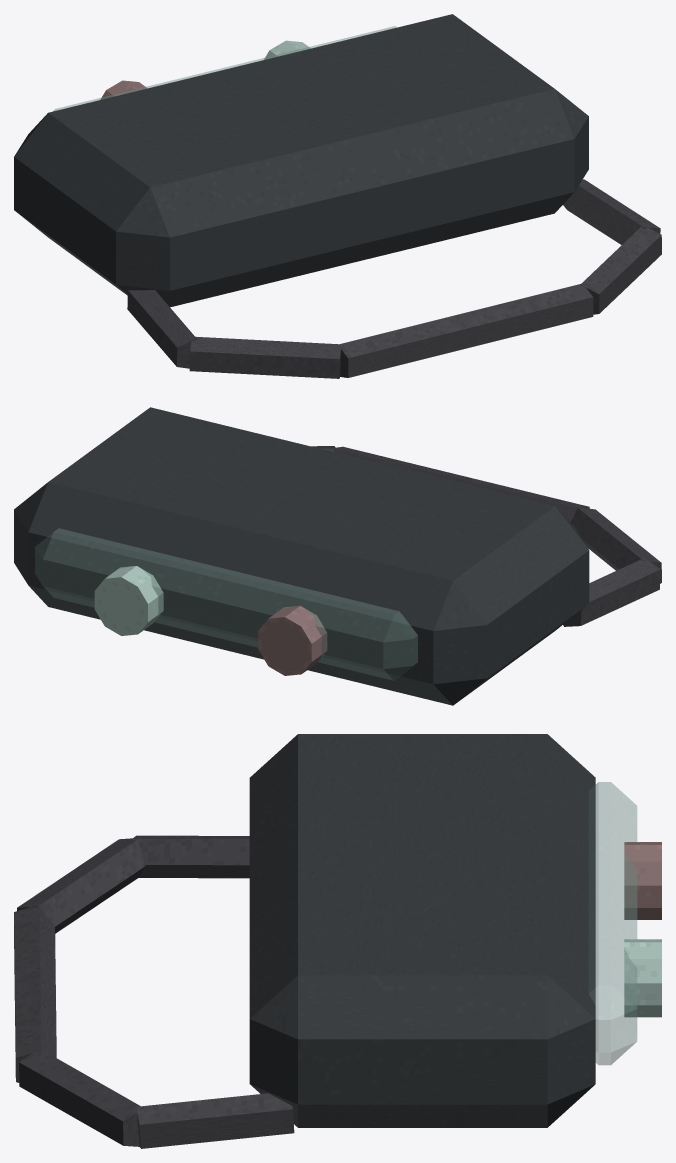
Rendered from goggles_nv.glb.
3 views of the same model, one above another, from view 1: azimuth 30°, elevation 25°; view 2: azimuth 150°, elevation 25°; view 3: azimuth 270°, elevation 25° (orthographic). The views are drawn at different scales.
Visible parts, largest first — view 1: block_electronic headset shroud, block_headband 2, block_headband 1, block_headband 3, block_headband 0, block_headband 4, block_wide dark visor; view 2: block_electronic headset shroud, block_wide dark visor, block_infrared emitter and receiver (×2), block_headband 0, block_headband 1, block_headband 2; view 3: block_electronic headset shroud, block_wide dark visor, block_headband 4, block_headband 2, block_infrared emitter and receiver (×2), block_headband 3, block_headband 1, block_headband 0.
Boxes of the visible parts, x1=… form: block_electronic headset shroud: x1=14, y1=14, x2=588, y2=307; block_headband 2: x1=338, y1=283, x2=593, y2=377; block_headband 1: x1=189, y1=336, x2=341, y2=378; block_headband 3: x1=580, y1=225, x2=661, y2=314; block_headband 0: x1=127, y1=290, x2=197, y2=368; block_headband 4: x1=563, y1=179, x2=660, y2=244; block_wide dark visor: x1=53, y1=26, x2=396, y2=111; block_electronic headset shroud: x1=14, y1=407, x2=589, y2=705; block_wide dark visor: x1=35, y1=528, x2=417, y2=680; block_infrared emitter and receiver (×2): x1=94, y1=566, x2=327, y2=675; block_headband 0: x1=563, y1=558, x2=660, y2=626; block_headband 1: x1=570, y1=507, x2=661, y2=583; block_headband 2: x1=333, y1=446, x2=589, y2=522; block_electronic headset shroud: x1=249, y1=734, x2=595, y2=1127; block_wide dark visor: x1=588, y1=782, x2=637, y2=1065; block_headband 4: x1=136, y1=1093, x2=294, y2=1148; block_headband 2: x1=14, y1=904, x2=56, y2=1082; block_infrared emitter and receiver (×2): x1=624, y1=842, x2=661, y2=1017; block_headband 3: x1=19, y1=1048, x2=143, y2=1146; block_headband 1: x1=17, y1=838, x2=145, y2=933; block_headband 0: x1=132, y1=835, x2=249, y2=878.
Bounding box in the file's own units: 0.251 × 0.0651 × 0.2377.
2 materials, 2 textured.
